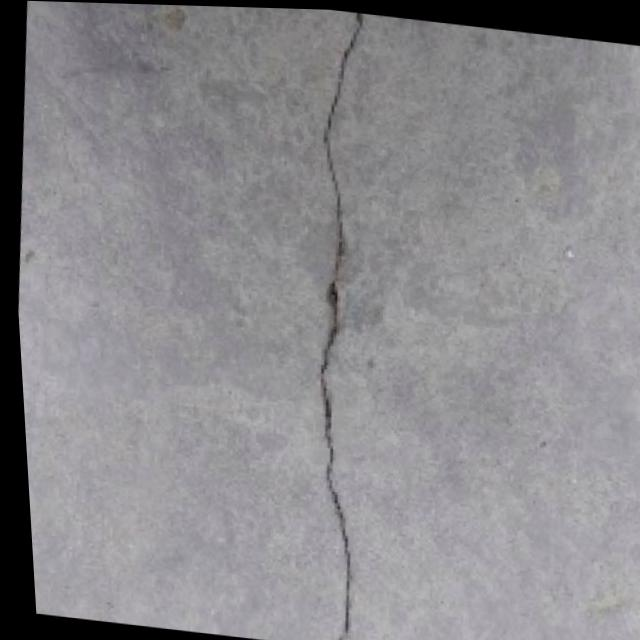Crack: (260, 6, 435, 640)
